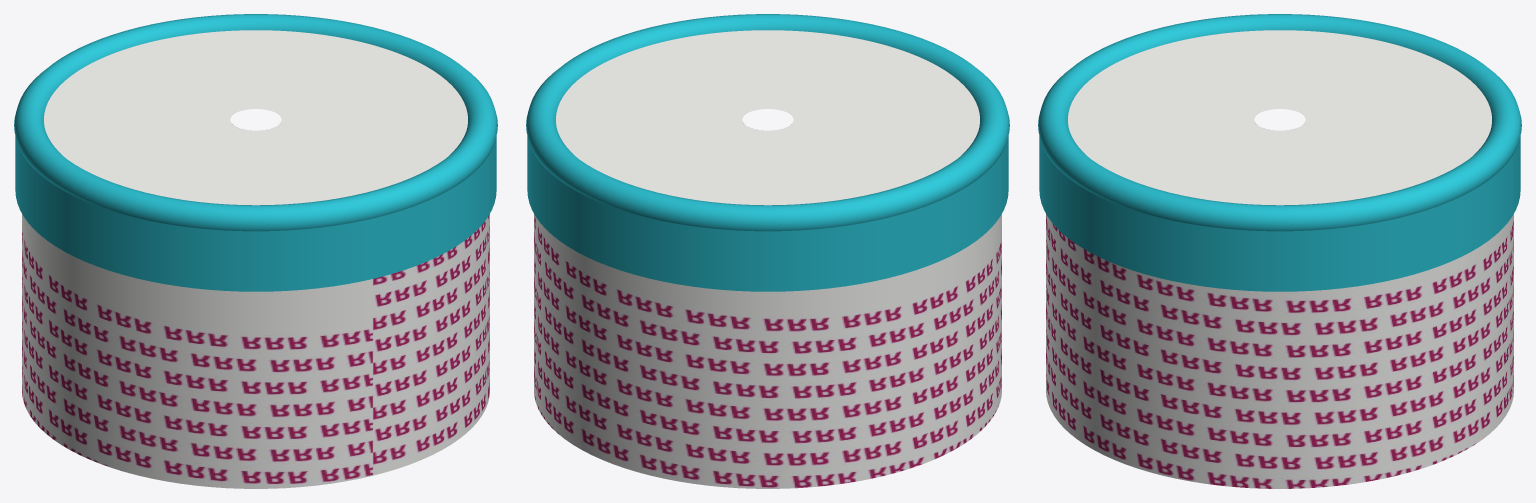
3 views of the same model, side by side, from view 1: azimuth 30°, elevation 25°; view 2: azimuth 150°, elevation 25°; view 3: azimuth 270°, elevation 25° (orthographic).
Visible parts, largest first — view 1: D100-H114; view 2: D100-H114; view 3: D100-H114.
Part boxes in pixels (left/top/right/bottom): D100-H114: left=14, top=14, right=497, bottom=488; D100-H114: left=526, top=14, right=1009, bottom=488; D100-H114: left=1038, top=14, right=1521, bottom=488.
Bounding box in the file's own units: 0.185 × 0.1177 × 0.185.
6 materials, 1 textured.
